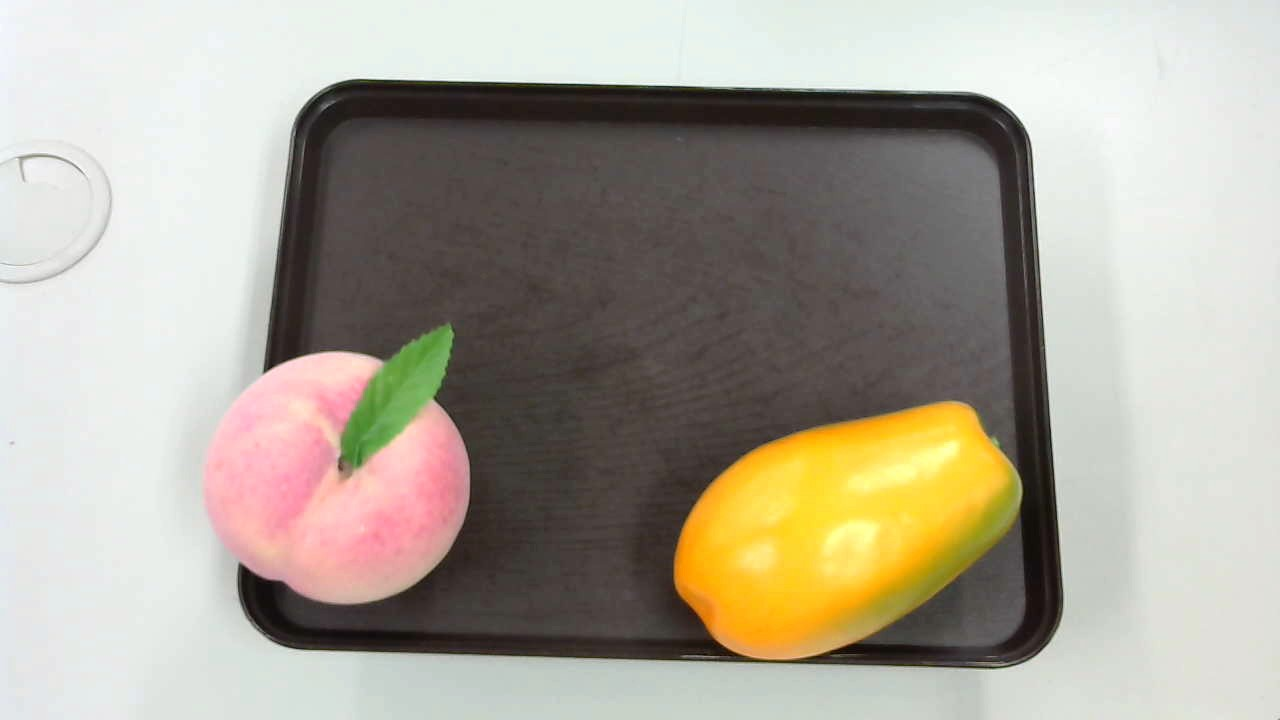papya: (670, 398, 1026, 658)
peach: (195, 318, 472, 607)
